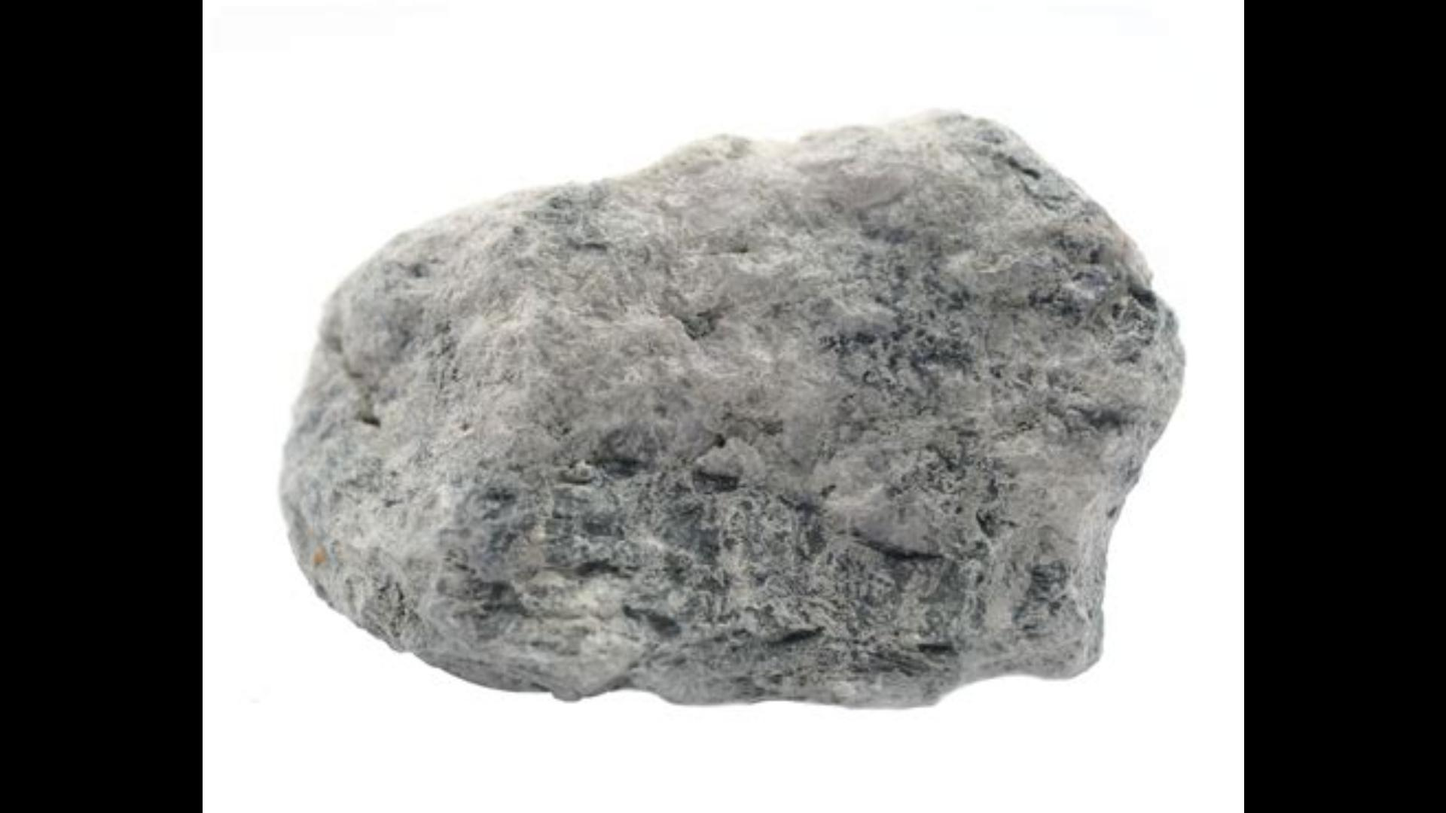rock: (283, 123, 1176, 703)
